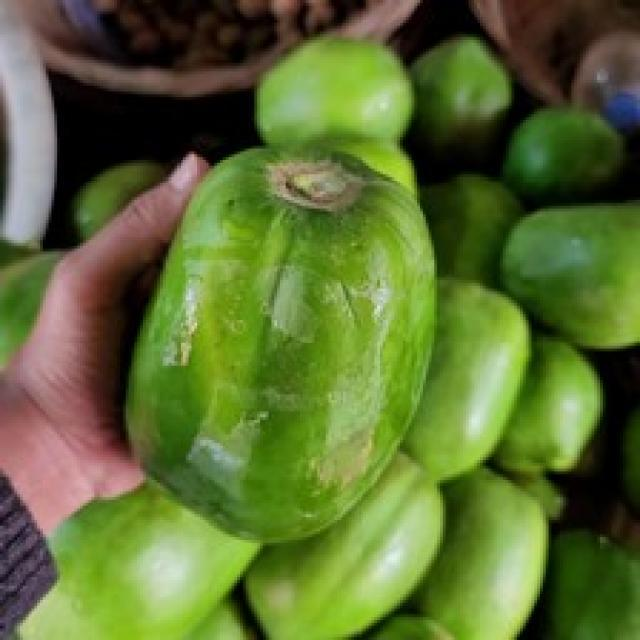Pepaya unrippen: (124, 143, 430, 555)
